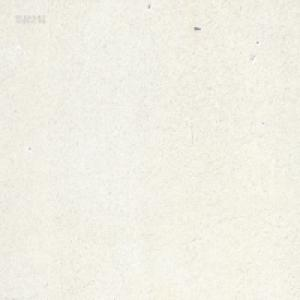Nail: (193, 26, 200, 31)
